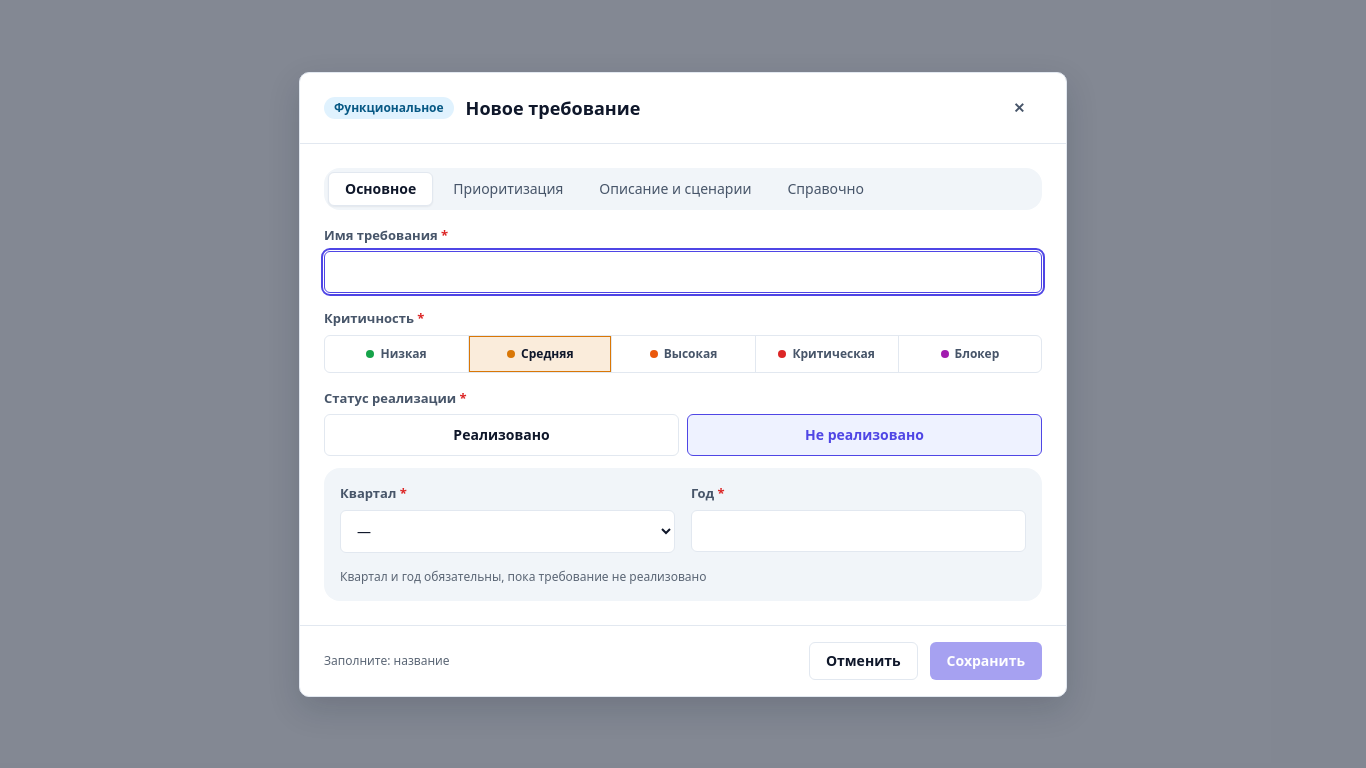
RequirementModal (T-1106, FR-6) › FR-21 · noDefaultCriticality=false (normal create — defaults still work) › Save button enabled with criticality=MEDIUM (default) and implemented=true
Expected: the element with test id "req-target" is shown, [324, 468, 1042, 600]
In the field with test id "req-name": (683, 272) [324, 251, 1042, 293], type "Обычное требование"
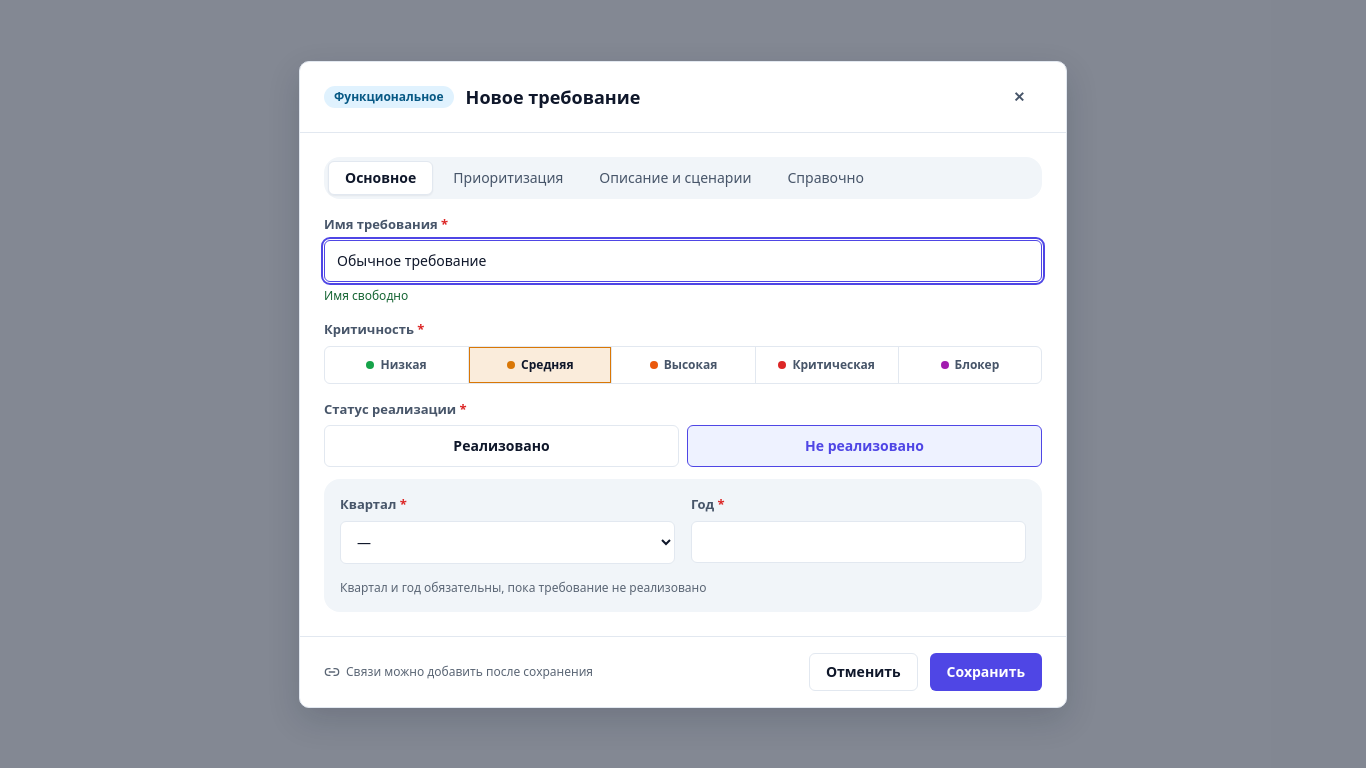
Click the button with test id "req-implemented-yes": (502, 446) [324, 425, 679, 467]
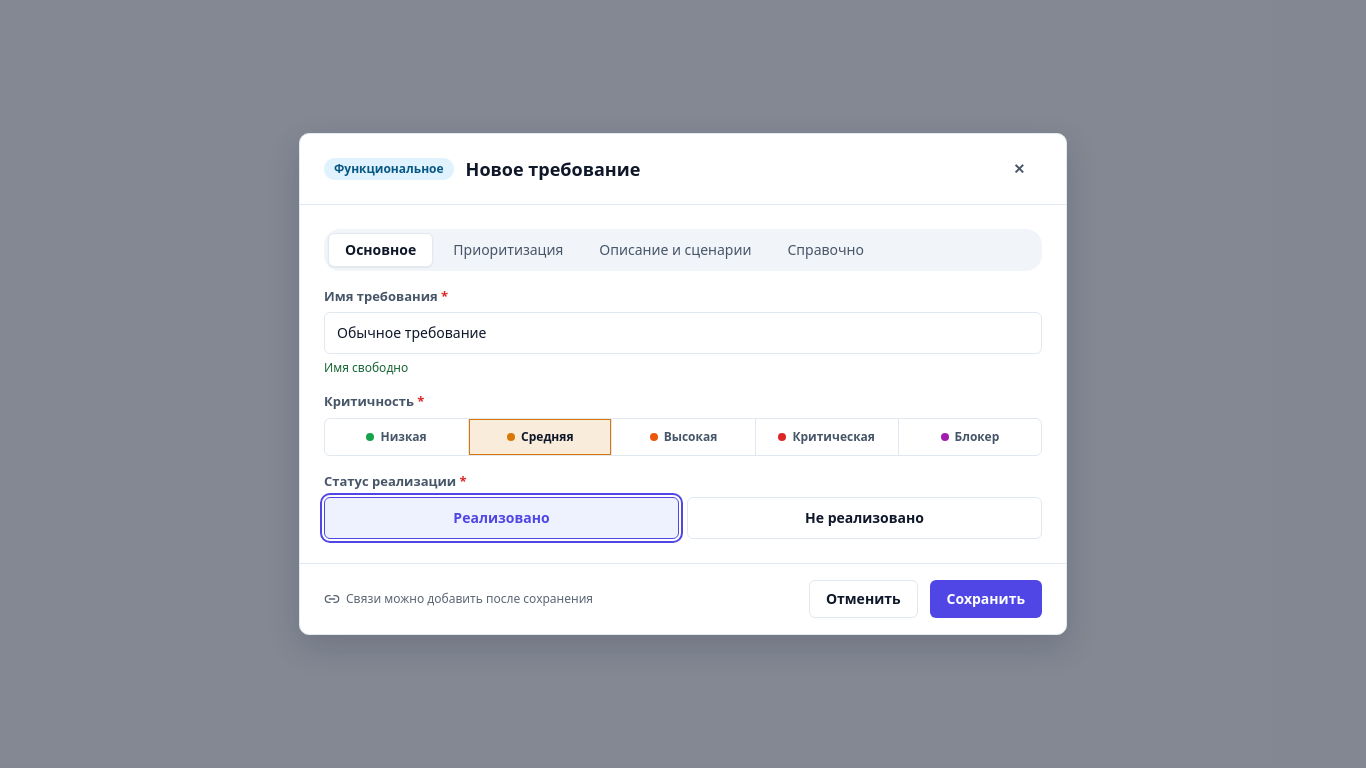
Now the button with test id "req-submit" is enabled, box [930, 580, 1042, 618]
Now the element with test id "req-target" is gone
